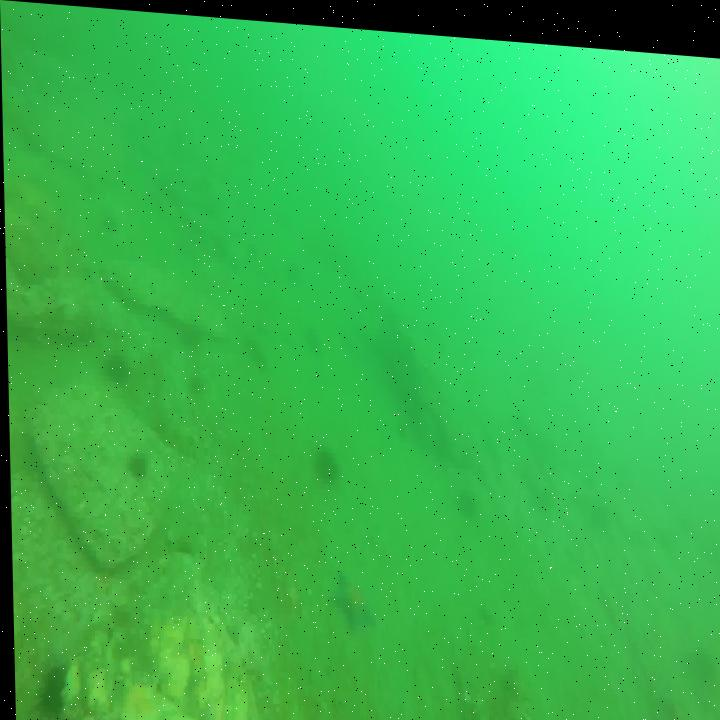echinus: (32, 662, 68, 720), (309, 442, 339, 482), (98, 347, 127, 385), (124, 444, 147, 481), (453, 480, 475, 512), (186, 368, 205, 397)
starfish: (329, 561, 375, 627)
